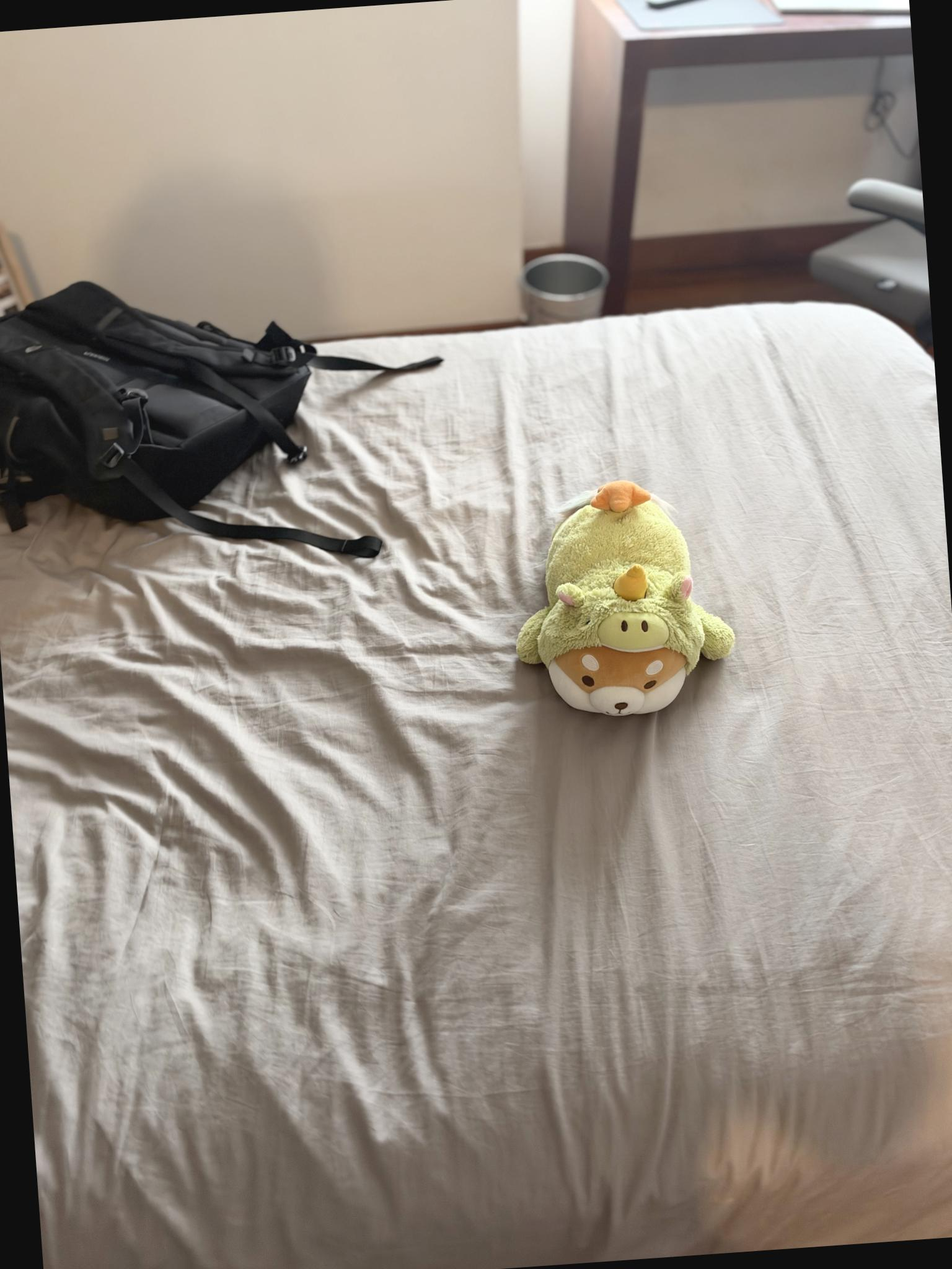peluche_martin: (504, 472, 740, 724)
